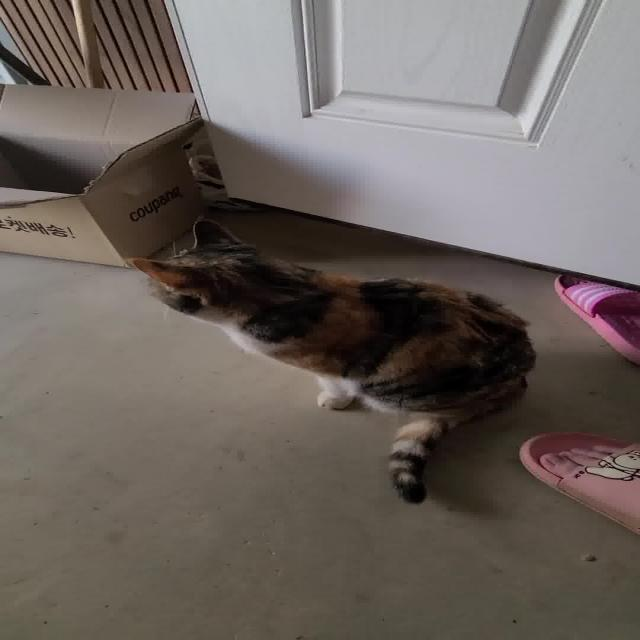cat: (71, 180, 516, 513)
